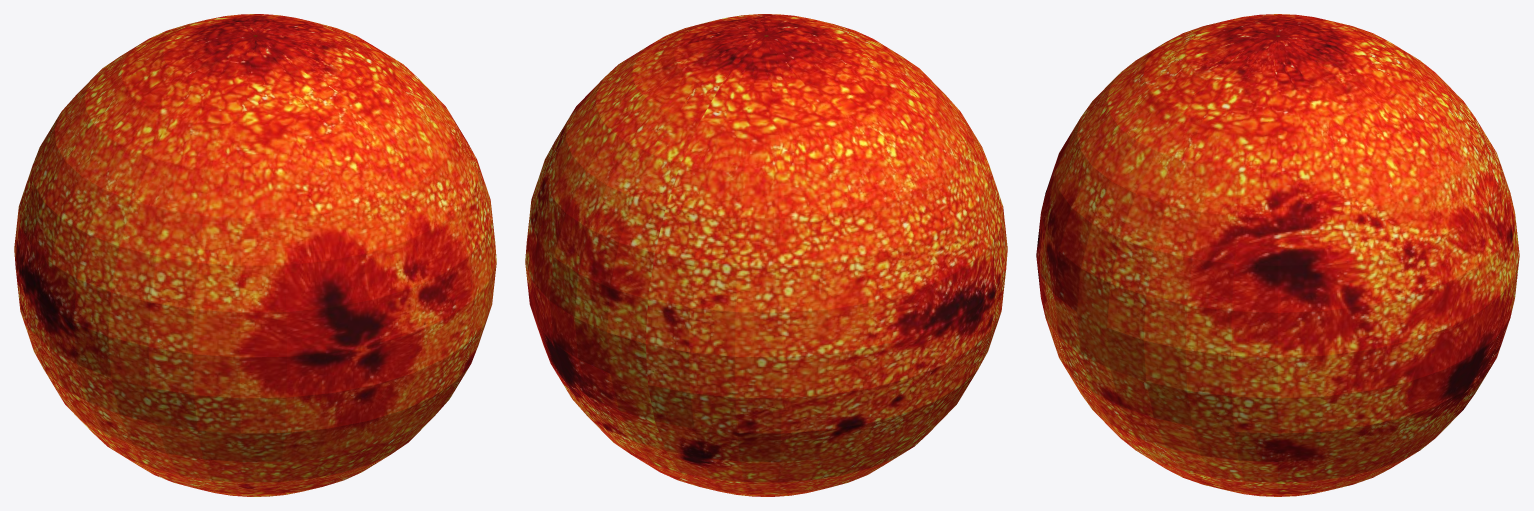
Rendered from GJ_3293-movie-88steps0074.obj.
3 renders of one model, left to right at view 1: azimuth 30°, elevation 25°; view 2: azimuth 150°, elevation 25°; view 3: azimuth 270°, elevation 25°, orthographic.
Parts seen in each view (by area): view 1: Sphere006; view 2: Sphere006; view 3: Sphere006.
Boxes of the visible parts, x1,y1,x2,y2 form: Sphere006: [14, 14, 496, 496]; Sphere006: [525, 14, 1007, 496]; Sphere006: [1036, 14, 1519, 496].
Bounding box in the file's own units: 0.00288 × 0.00289 × 0.00288.
Materials: 1 (1 with a texture image).
